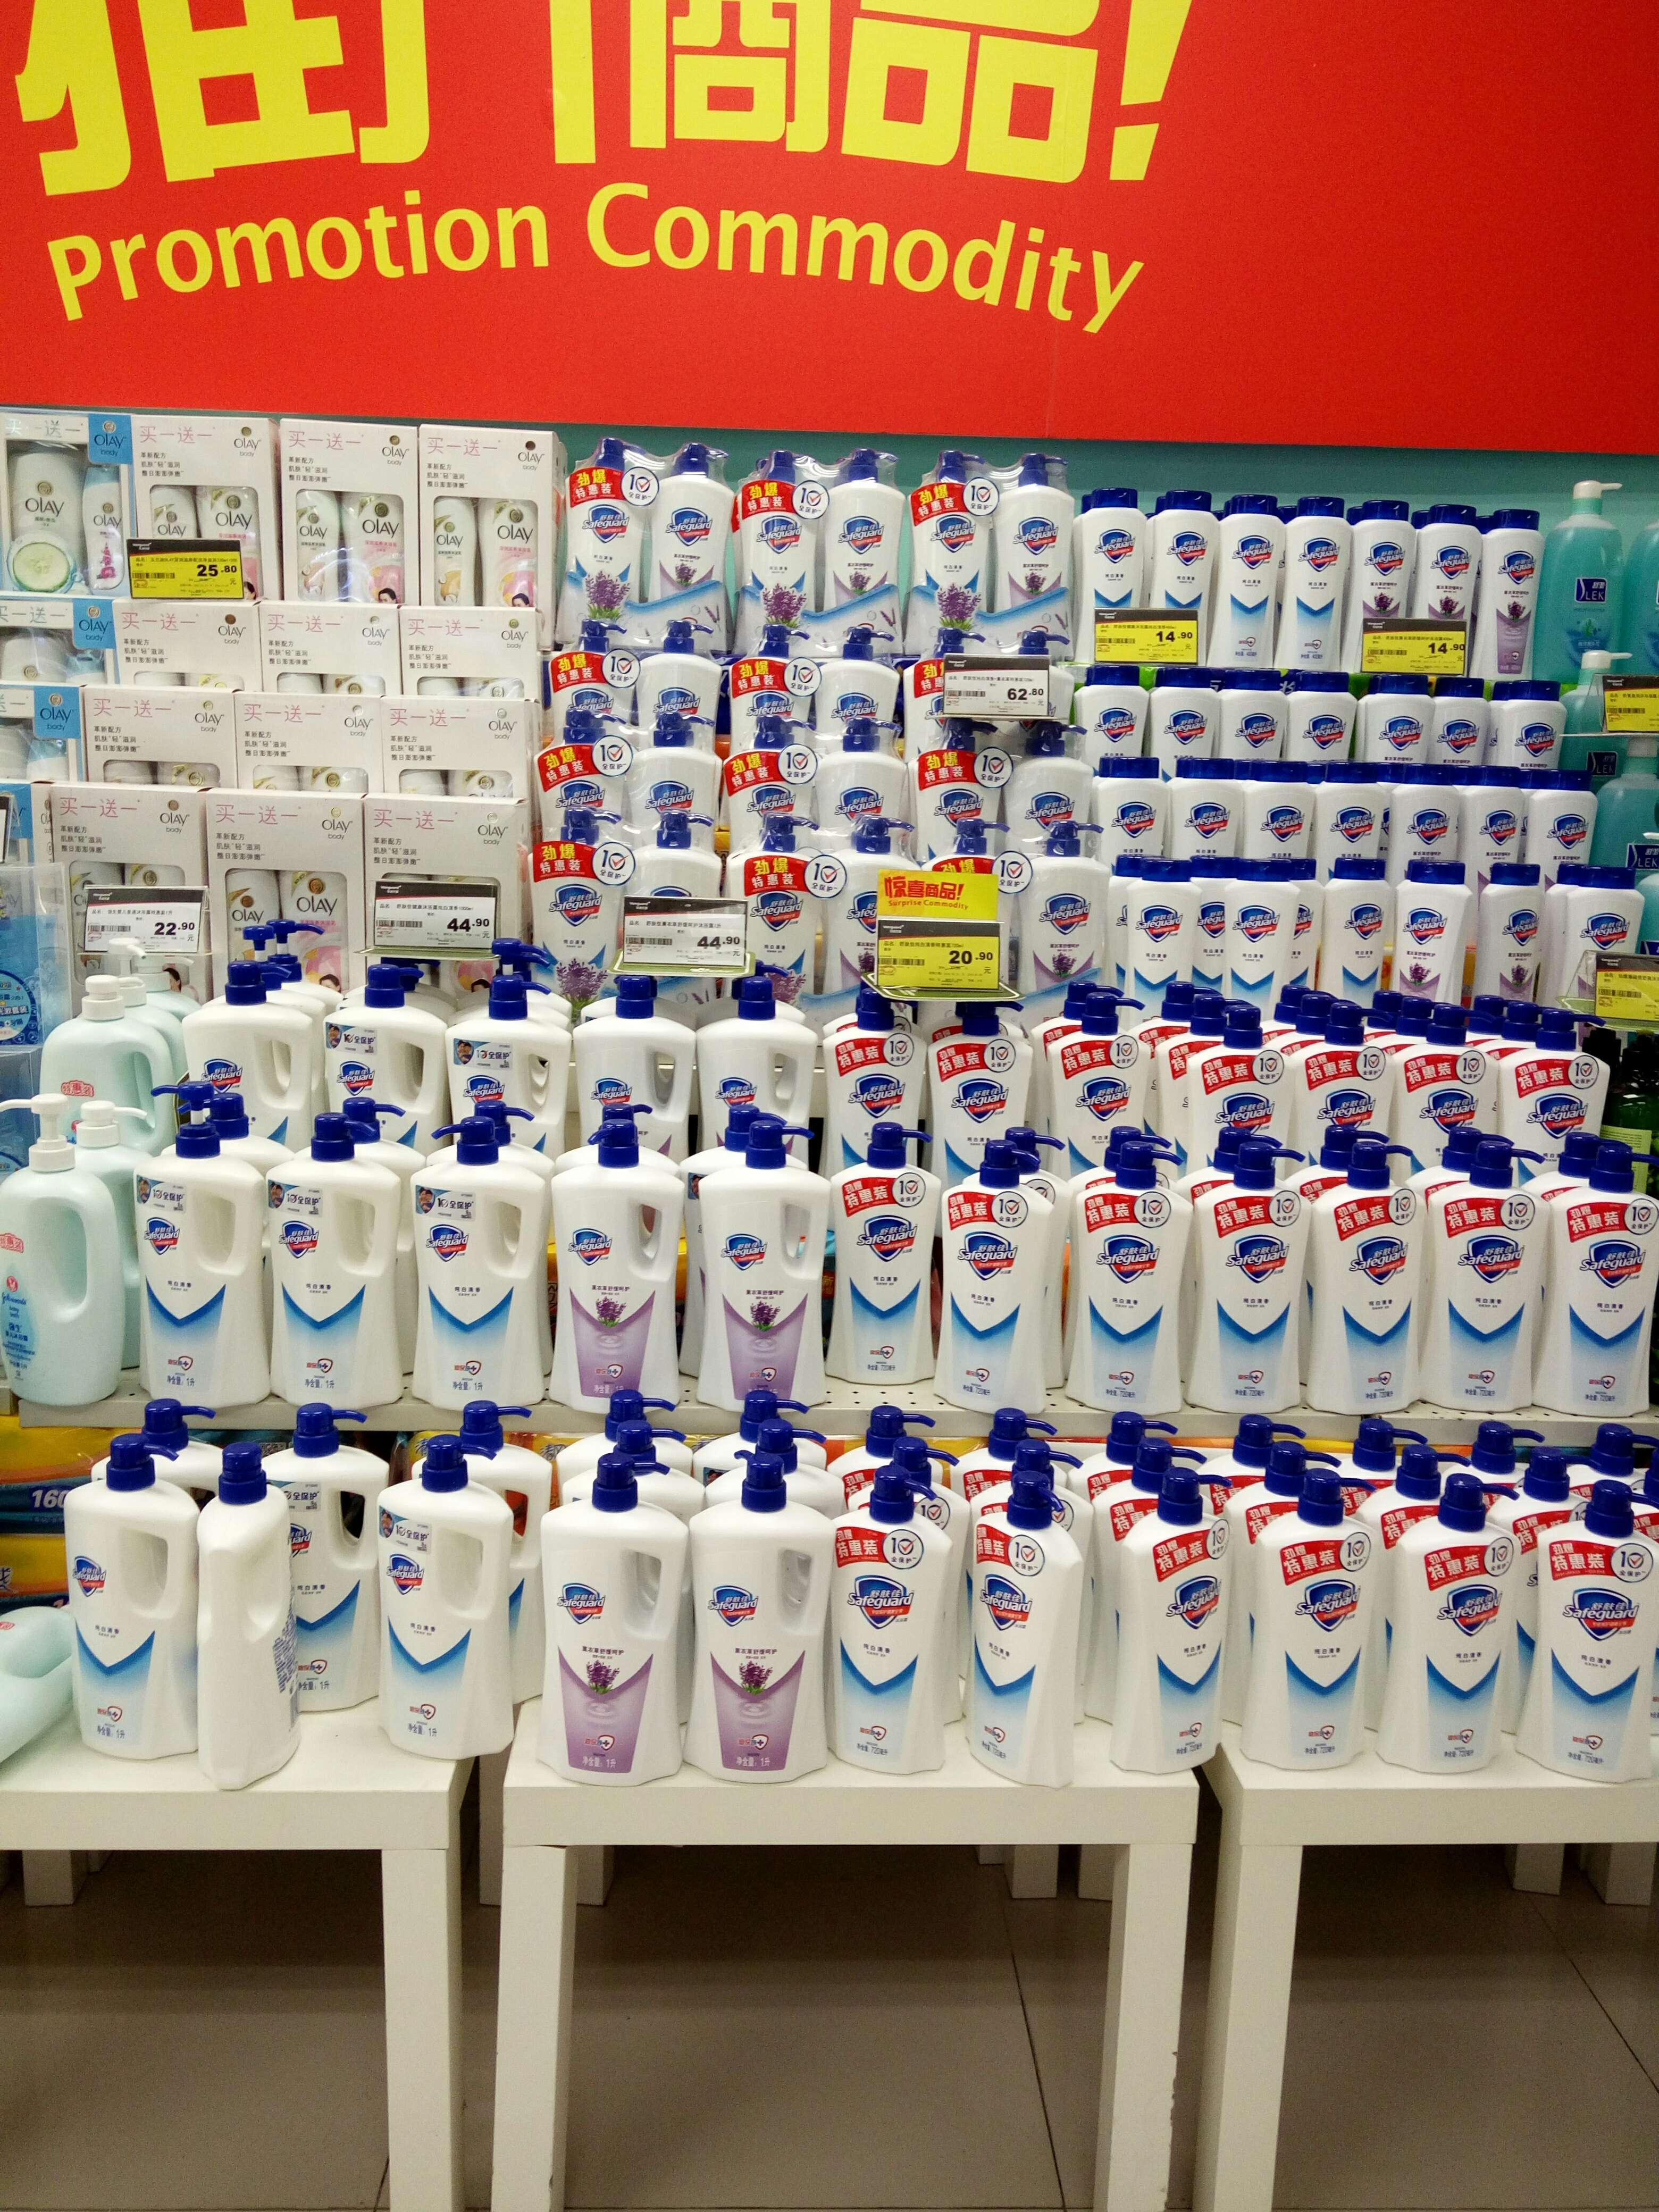misalignment: (0, 1073, 124, 1400), (197, 1454, 305, 1780), (0, 1583, 77, 1784)
